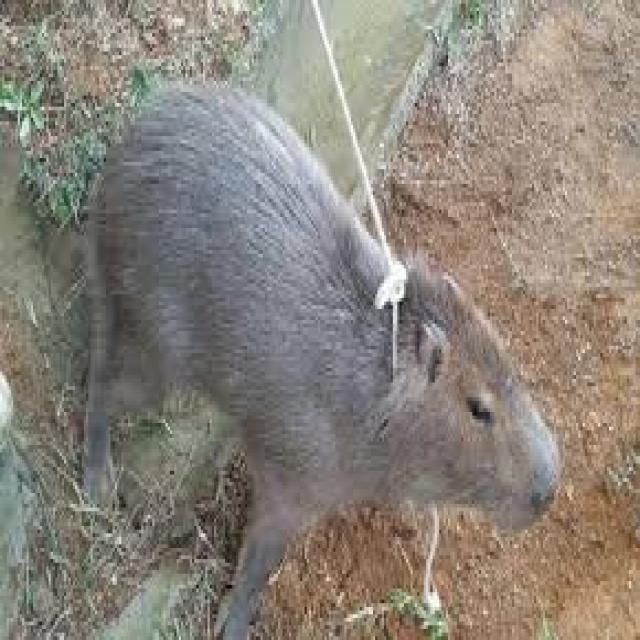capy: (82, 81, 558, 640)
